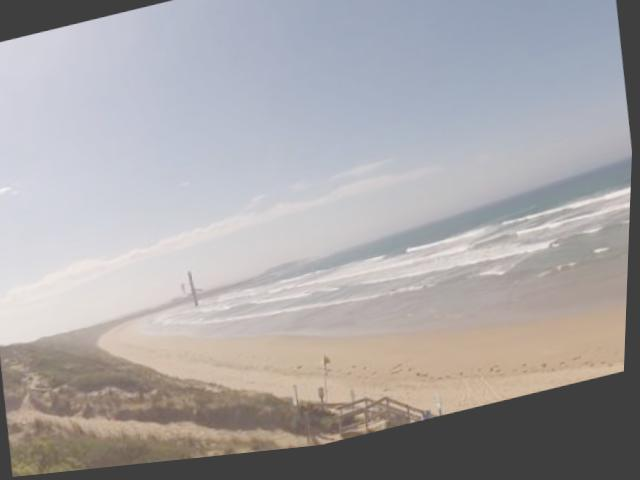uav: (176, 267, 216, 318)
